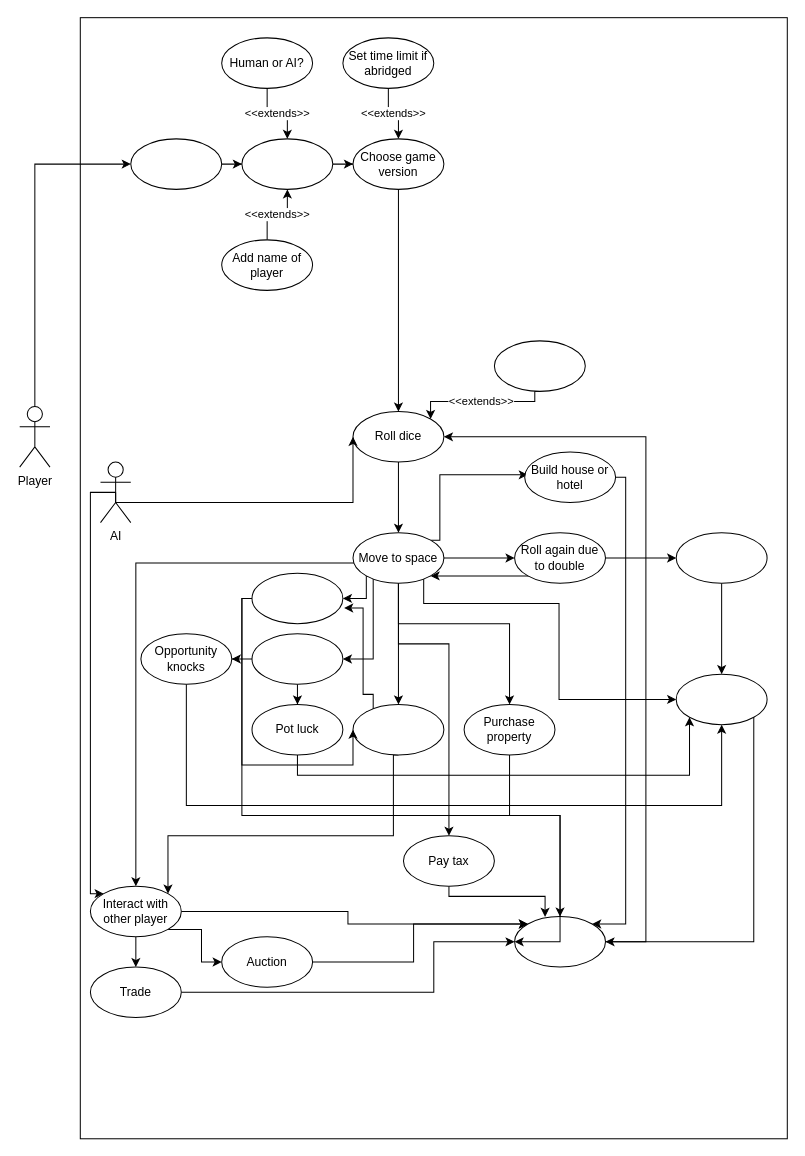
Image size: 805x1156. Some labels were removed from this diagram. Here are the shapes that lost their labels. From the top down, the box of each, then its label:
(130, 138, 222, 189): Start game
(241, 138, 333, 189): Add players
(493, 340, 585, 391): Roll double to get out of jail
(675, 532, 767, 583): Third double roll
(251, 572, 343, 624): Pay rent
(251, 633, 343, 684): Pick up card
(675, 673, 767, 725): Go to jail
(352, 703, 444, 755): Mortgage property
(514, 916, 605, 967): End turn
